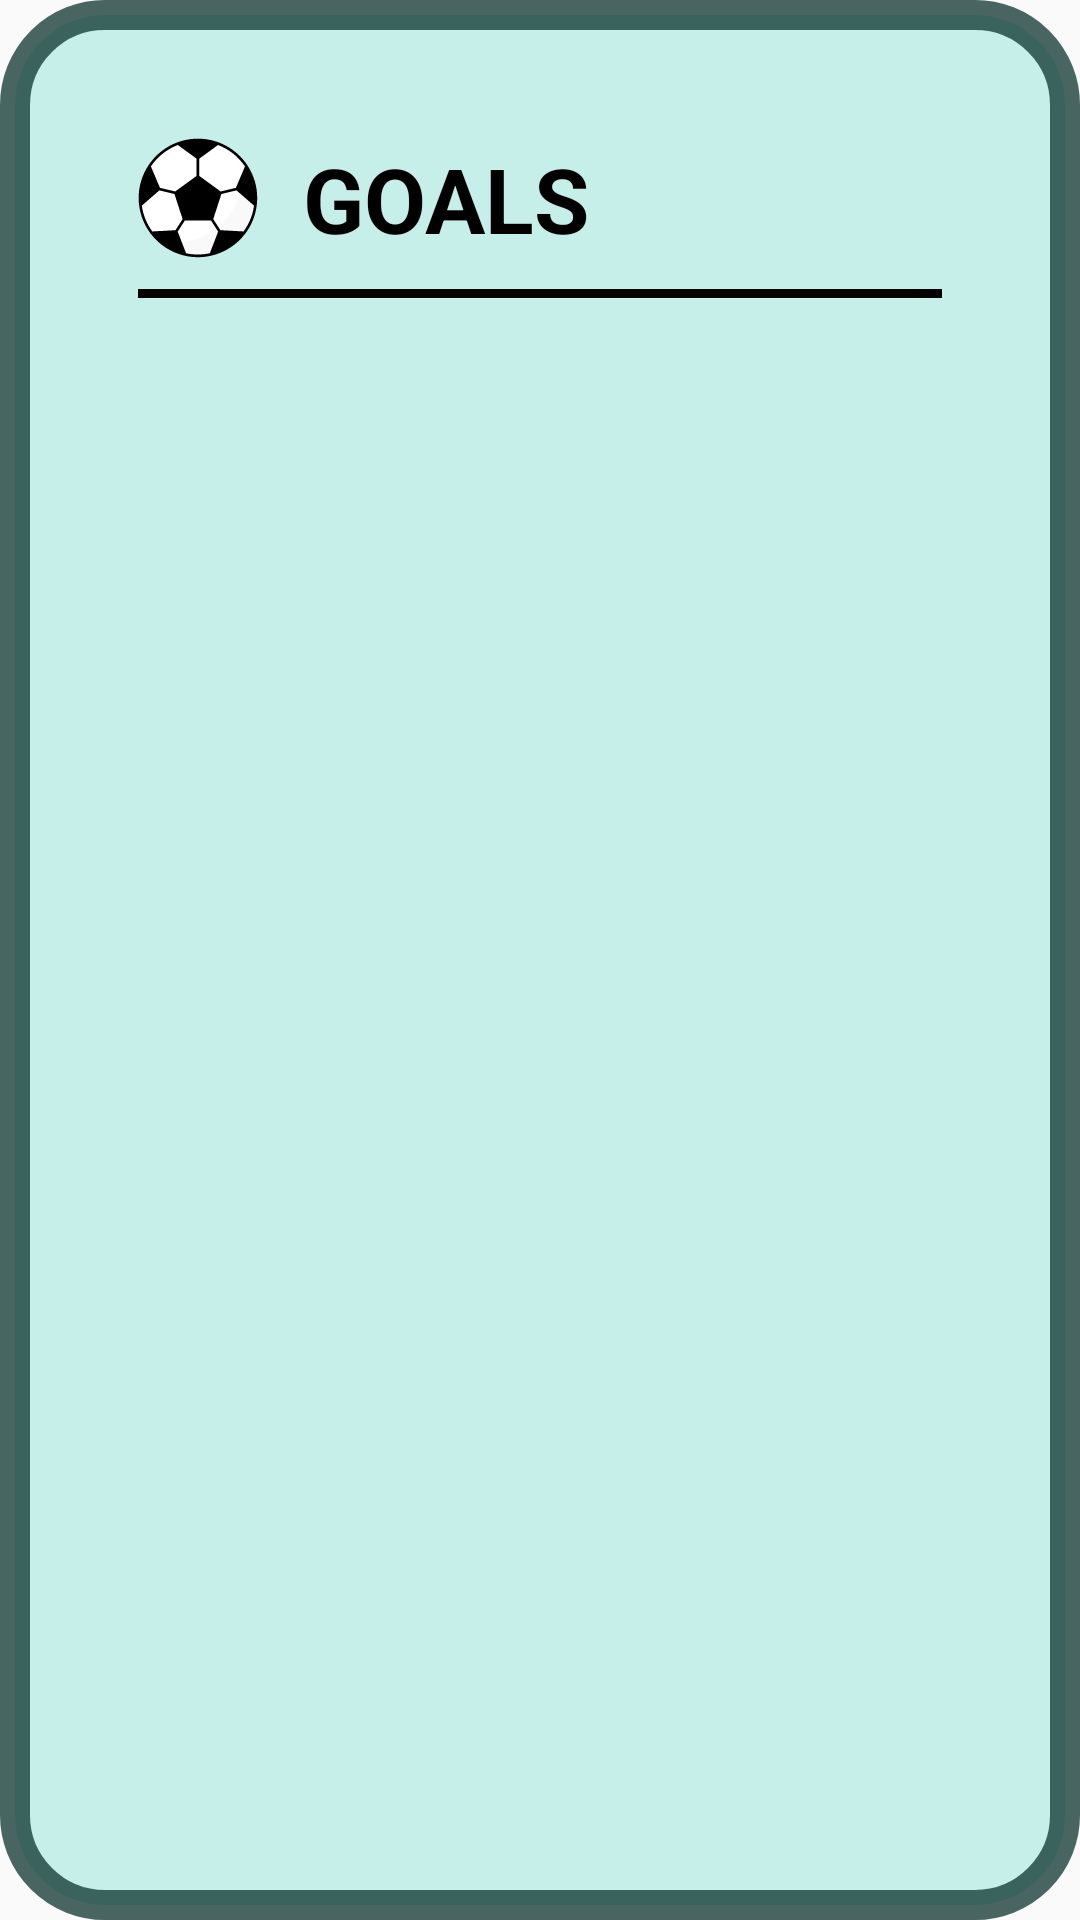

Locate icon controls on the screen. Image size 1080x1920, boxes as (x1, y1, x2, y2).
Football ball image: (138, 138, 258, 258)
